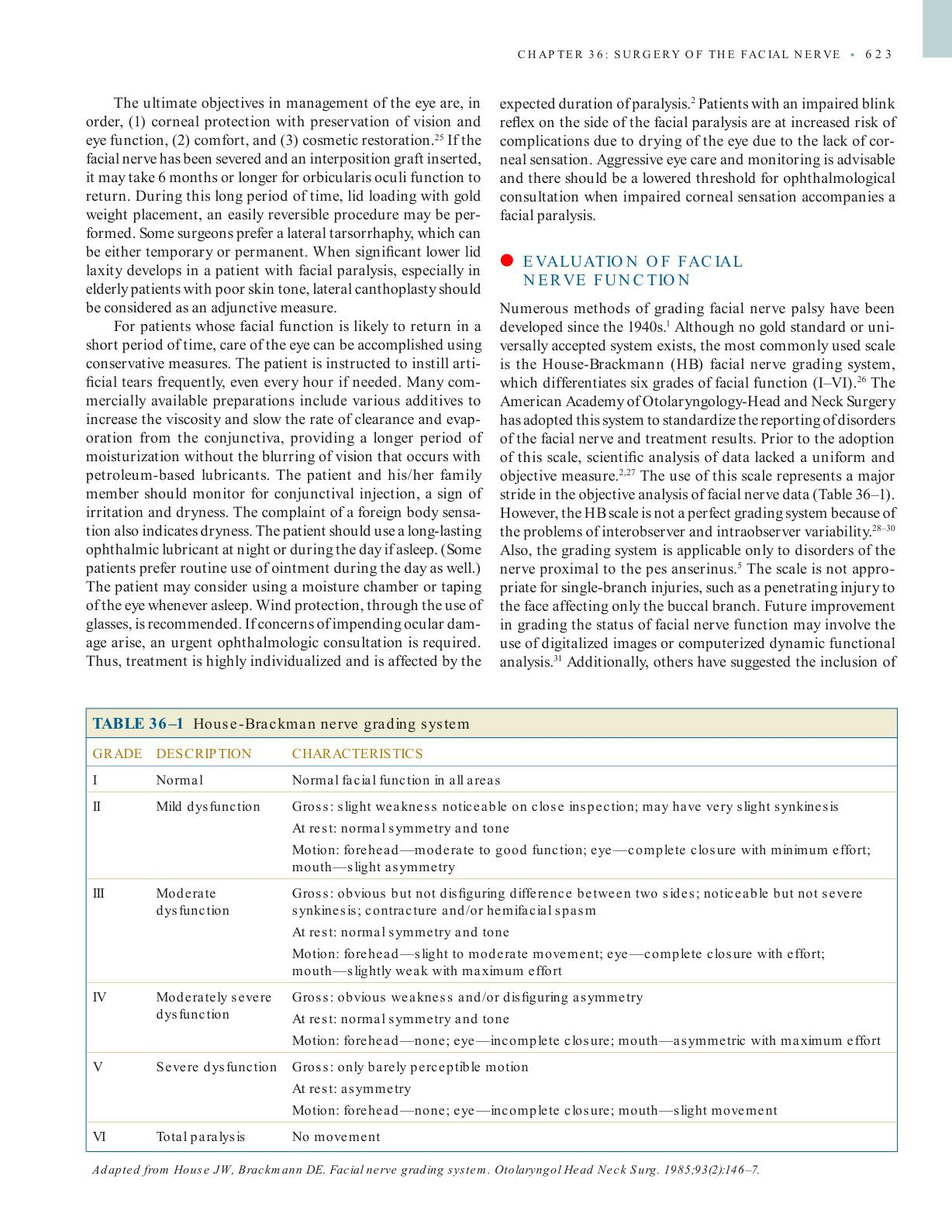caption: (91, 714, 471, 735)
header: (516, 46, 842, 60)
section-heading: (521, 253, 744, 286)
table: (85, 737, 899, 1177)
text: (82, 93, 484, 673), (497, 298, 899, 672), (497, 92, 899, 223)
